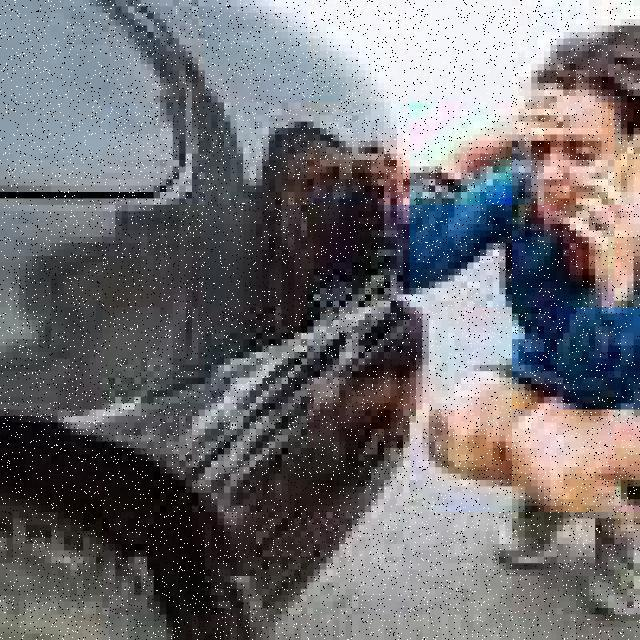rear-bumper-dent: (0, 307, 461, 634)
